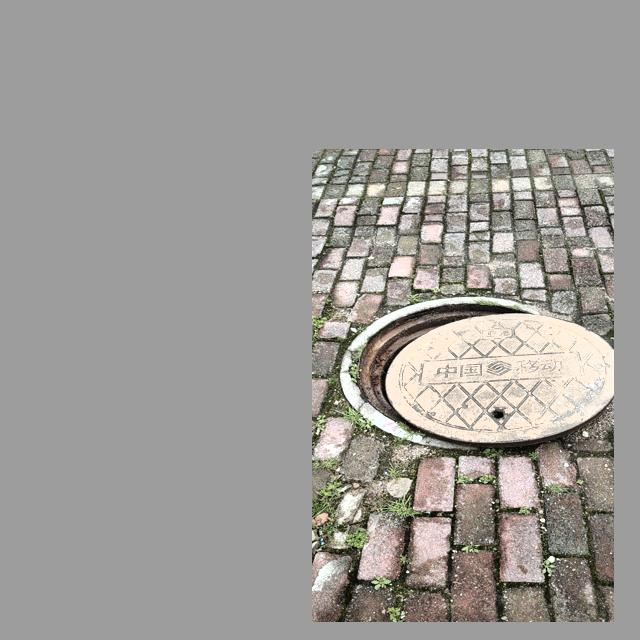uncovered: (339, 297, 614, 448)
